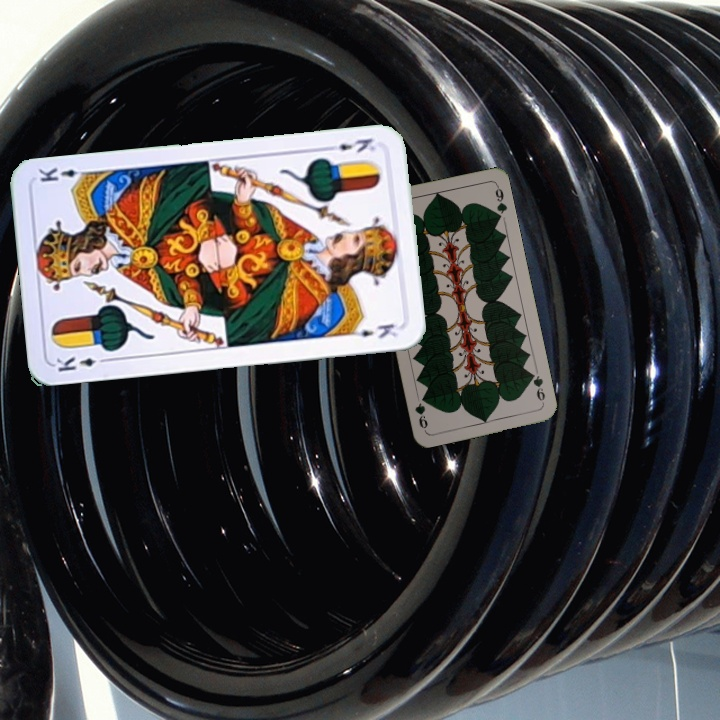EK: (52, 352, 112, 375), (322, 134, 378, 155)
G9: (525, 368, 548, 407)
